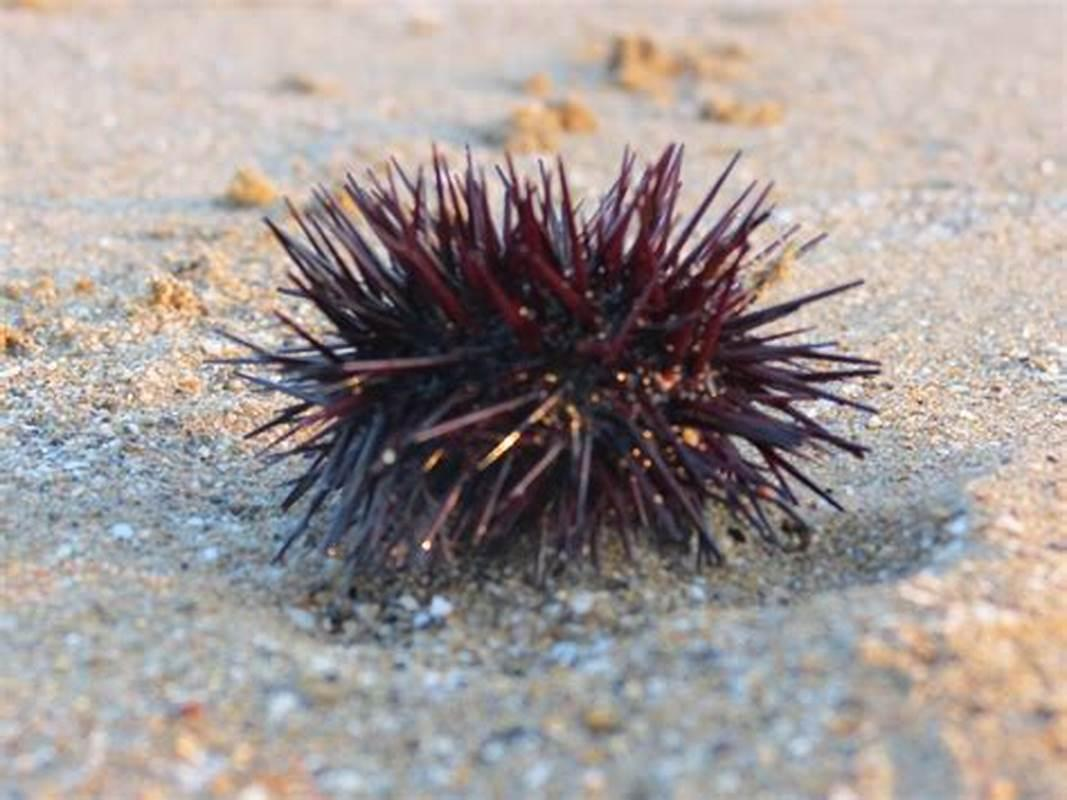urchin: (271, 154, 856, 568)
